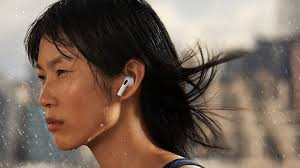earphone: (115, 59, 145, 100)
